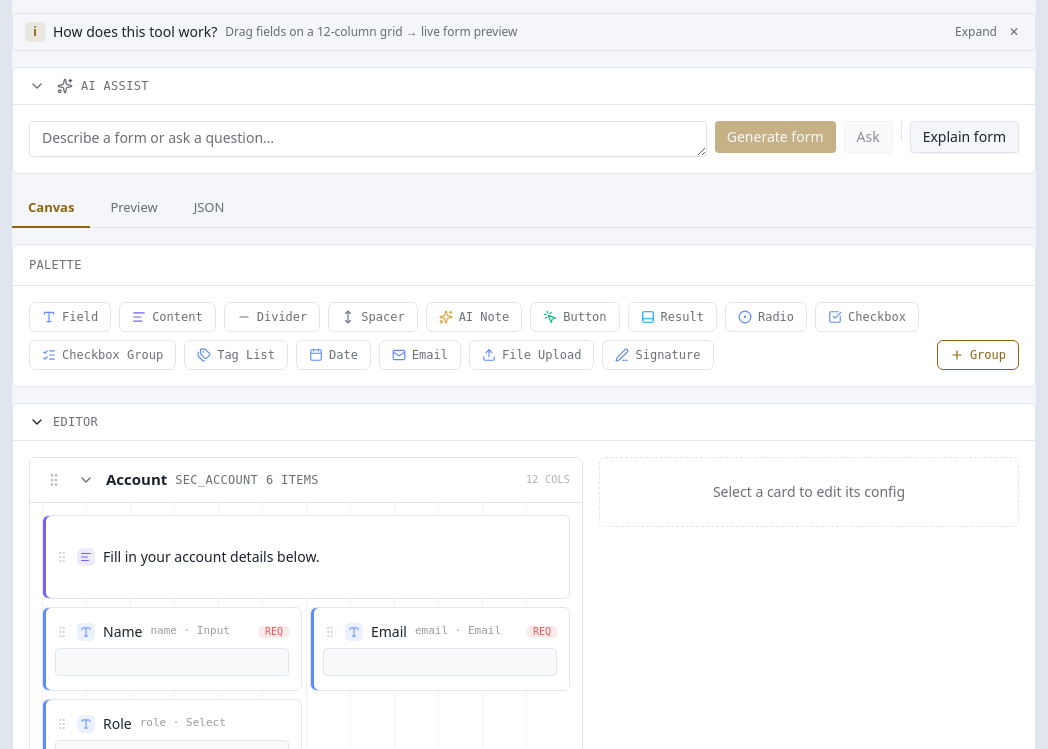
FormBuilderTool preview tab integration › Preview tab renders ResponsivePreview with device controls + a submission panel
Click the button "Preview": (134, 209) [94,190,174,228]
(page scrolled)
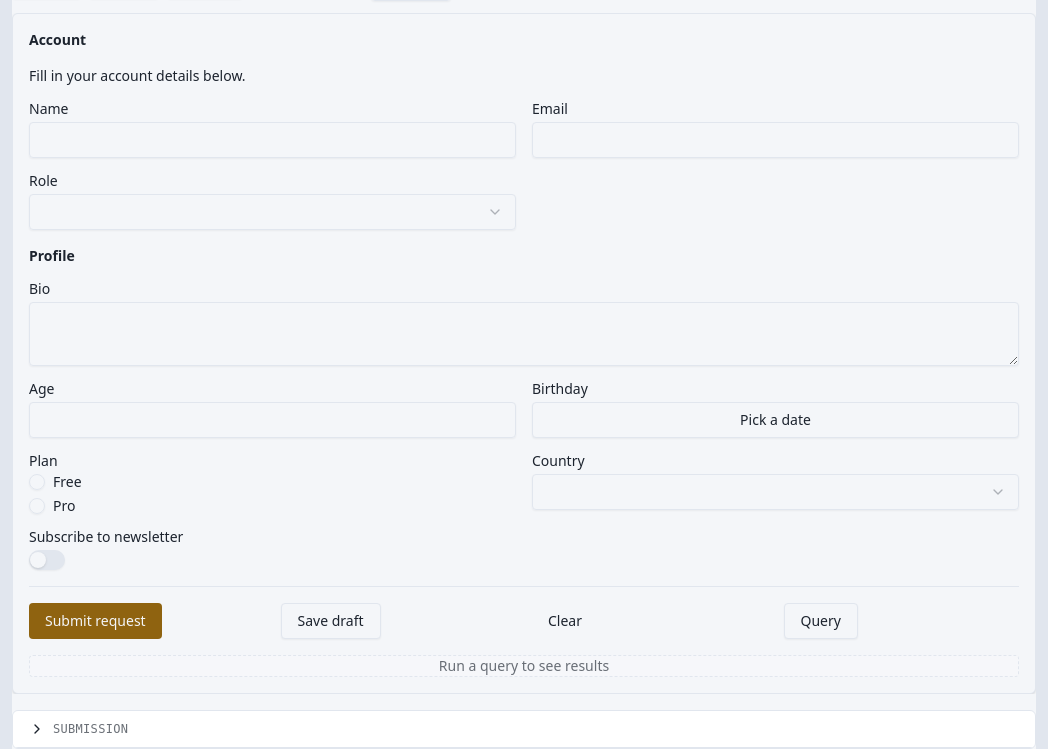
Expected: the button "Submission" is shown, [29,720,1019,736]
